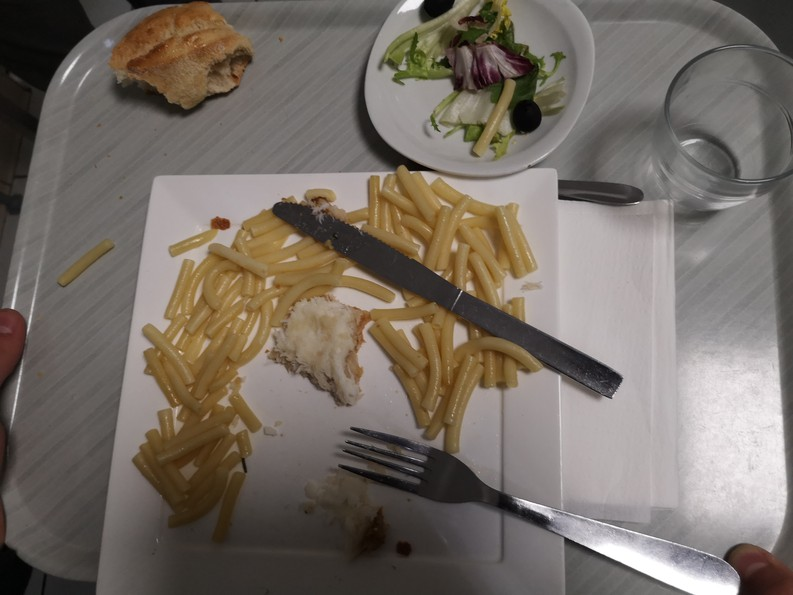orga: (151, 213, 248, 540), (405, 7, 580, 146), (80, 4, 270, 113), (354, 169, 536, 276), (395, 318, 507, 431), (281, 296, 375, 409), (245, 203, 340, 311)
trash: (553, 193, 687, 517)
